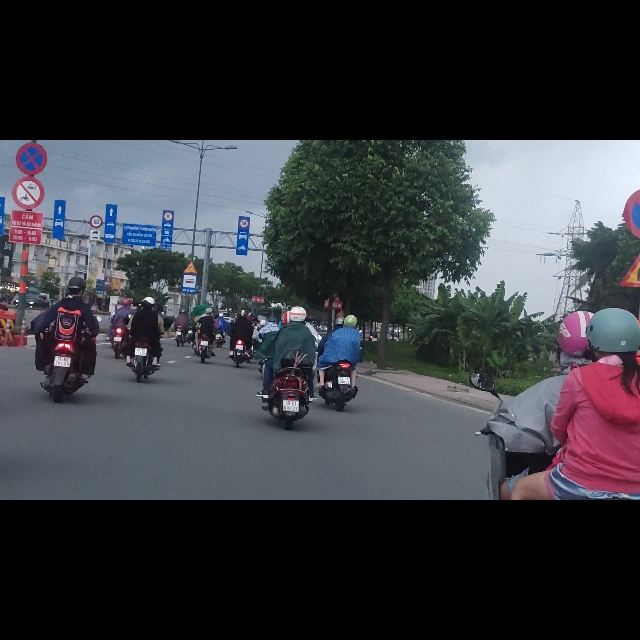bien_cam: (11, 63, 44, 124), (15, 4, 47, 63), (182, 236, 197, 273), (183, 215, 198, 238), (90, 134, 103, 156), (90, 159, 101, 180), (239, 139, 249, 158), (164, 127, 173, 145)
